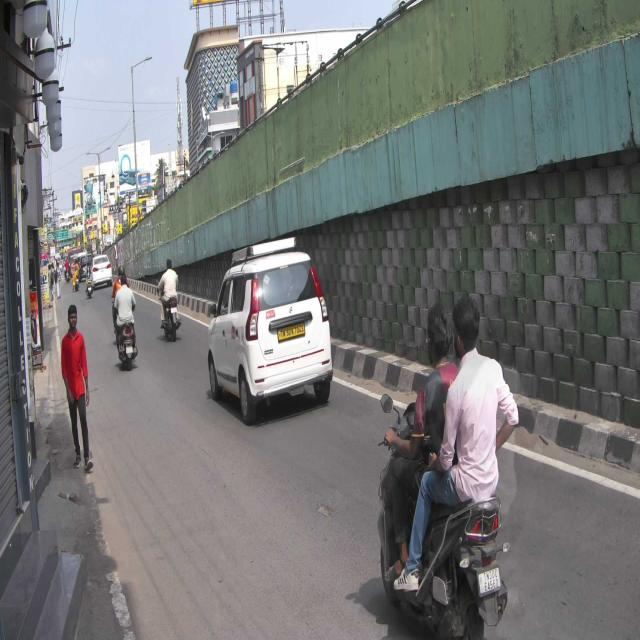double_rider: (378, 293, 520, 640)
